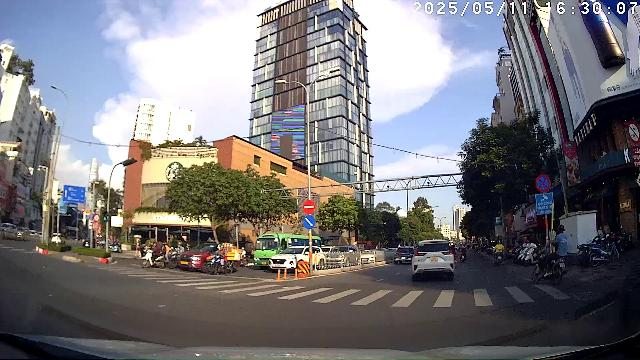102-cam-di-nguoc-chieu: (303, 200, 315, 214)
130-cam-dung-va-do-xe: (535, 174, 551, 192)
302a-huong-phai-di-vong-chuong-ngai-vat-1: (303, 216, 315, 229)
